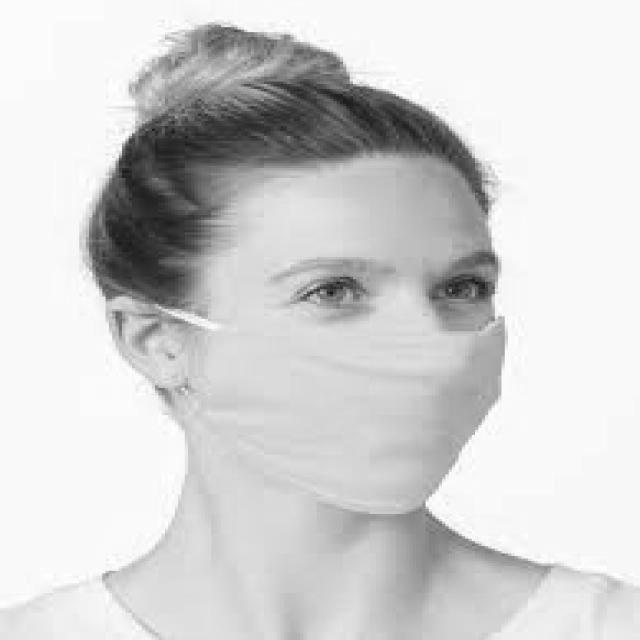fake: (192, 312, 512, 520)
real: (194, 155, 518, 526)
